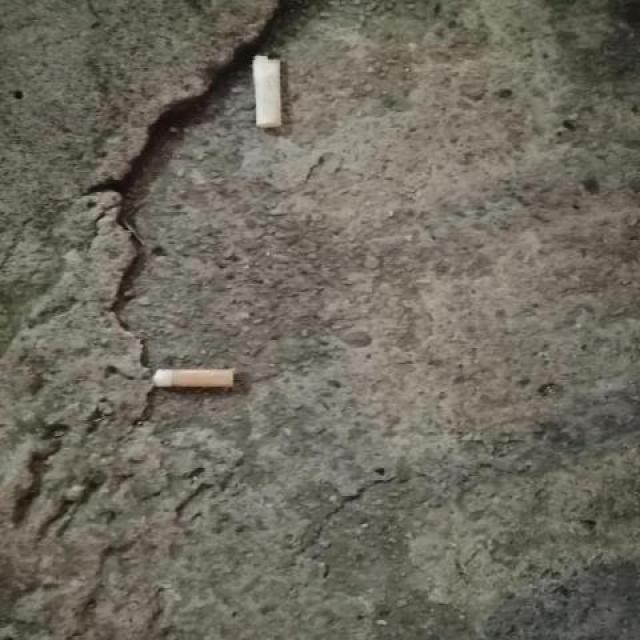non-organic waste: (250, 50, 290, 134), (149, 366, 240, 394)
